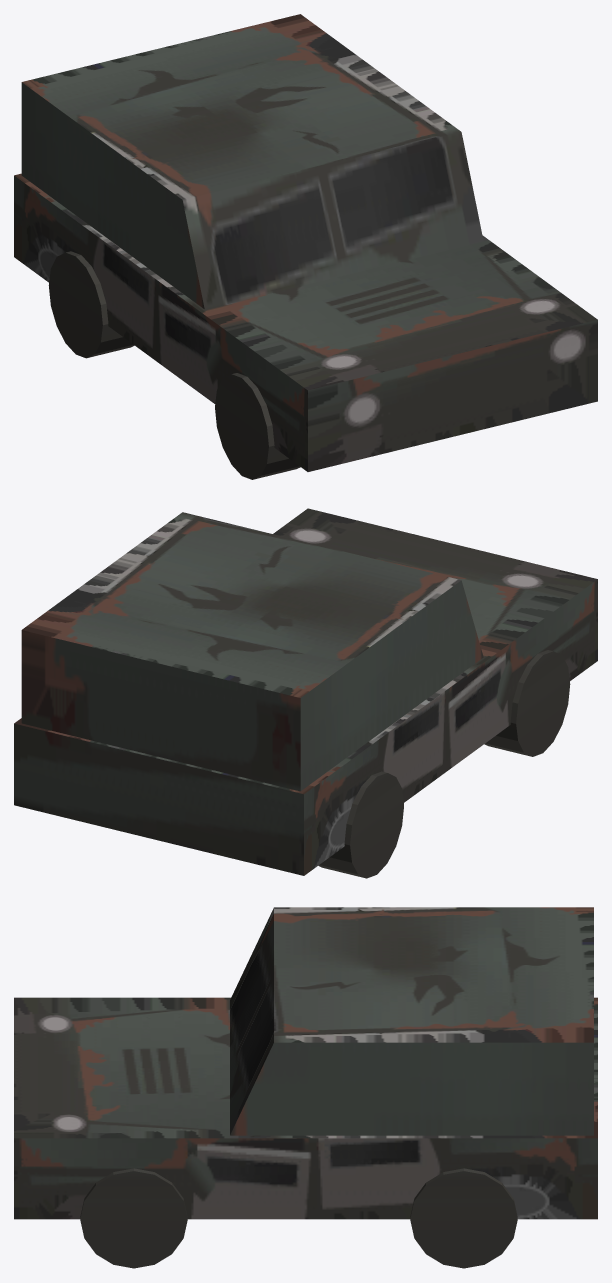
The model's file is Building_AncientRustedJeep.obj.
The picture shows the model from 3 angles, top to bottom: view 1: azimuth 30°, elevation 25°; view 2: azimuth 150°, elevation 25°; view 3: azimuth 270°, elevation 25°; orthographic projection.
Visible parts, largest first — view 1: Body; view 2: Body; view 3: Body.
Boxes of the visible parts, <box> form: Body: <box>14,14,597,479</box>; Body: <box>14,508,597,878</box>; Body: <box>14,907,597,1268</box>.
Bounding box in the file's own units: 2.7 × 1.9 × 4.56.
1 material, 1 textured.
